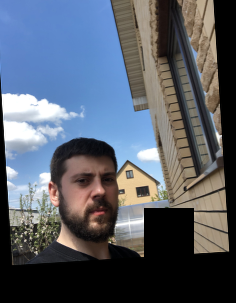without_mask: (68, 165, 119, 241)
